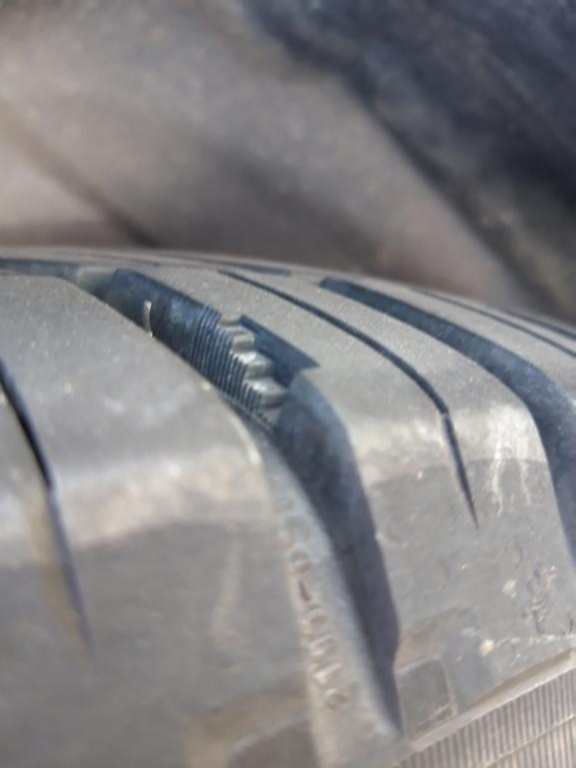temoin:90: (184, 297, 331, 441)
